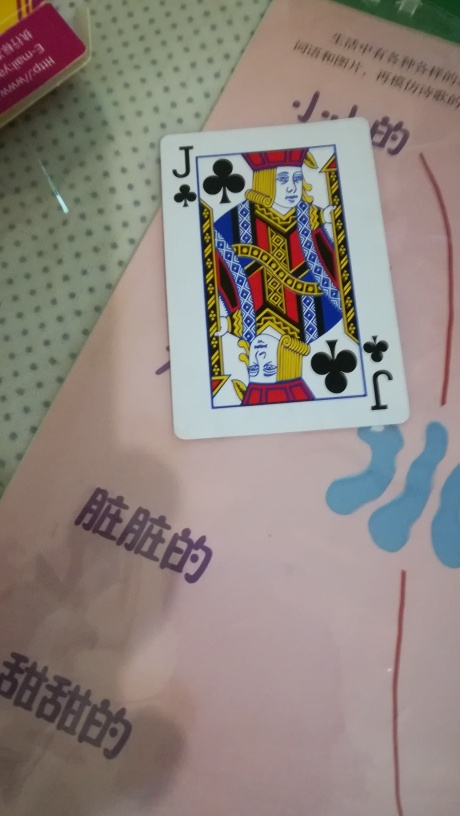mh j: (154, 116, 411, 440)
